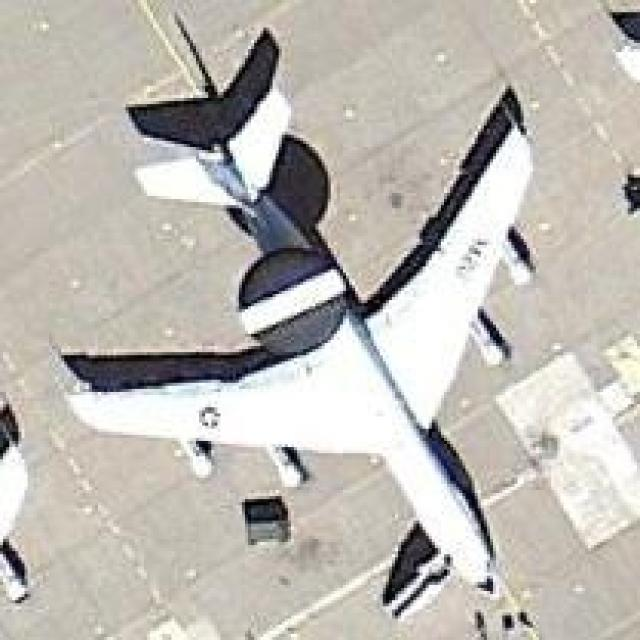E-3_TopDown: (49, 0, 551, 637)
